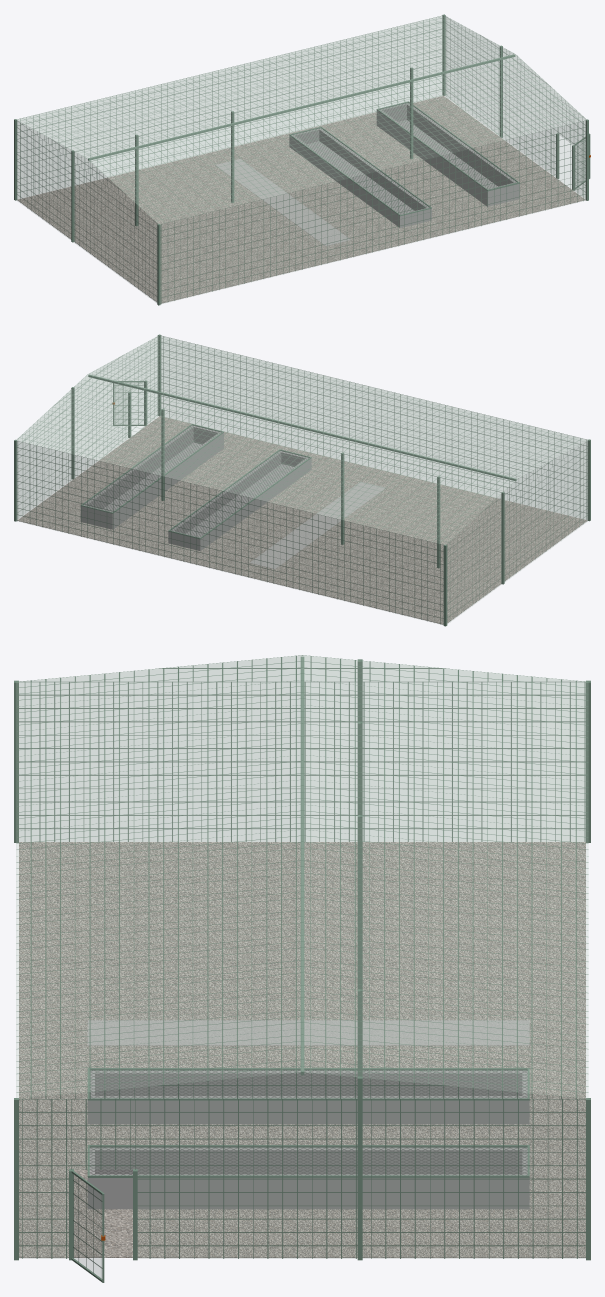
Rendered from poi10_vivero3_preview.glb.
3 renders of one model, top to bottom at view 1: azimuth 30°, elevation 25°; view 2: azimuth 150°, elevation 25°; view 3: azimuth 270°, elevation 25°, orthographic. The views are drawn at different scales.
Visible parts, largest first — view 1: envolvente_malla_sombra, cubierta_dos_aguas, piso_grava, cama_C3_concreto_prof_0.73, cama_C2_concreto_prof_0.55, cama_C1_indicativa_sin_profundidad, cama_C2_tapa_malla, cama_C3_tapa_malla, cumbrera_viga; view 2: envolvente_malla_sombra, cubierta_dos_aguas, piso_grava, cama_C3_concreto_prof_0.73, cama_C2_concreto_prof_0.55, cama_C1_indicativa_sin_profundidad, cama_C2_tapa_malla, cama_C3_tapa_malla, cumbrera_viga, puerta_P1, eje_V4; view 3: cubierta_dos_aguas, piso_grava, envolvente_malla_sombra, cama_C3_concreto_prof_0.73, cama_C2_concreto_prof_0.55, cama_C1_indicativa_sin_profundidad, cama_C2_tapa_malla, cama_C3_tapa_malla, puerta_P1, cumbrera_viga, eje_Y7_4, eje_Y7_2 (+4 smaller).
Part boxes in pixels (bbox=[...]): envolvente_malla_sombra: bbox=[16, 15, 586, 304]; cubierta_dos_aguas: bbox=[16, 15, 586, 224]; piso_grava: bbox=[17, 95, 585, 303]; cama_C3_concreto_prof_0.73: bbox=[376, 103, 519, 206]; cama_C2_concreto_prof_0.55: bbox=[289, 128, 431, 227]; cama_C1_indicativa_sin_profundidad: bbox=[215, 159, 350, 245]; cama_C2_tapa_malla: bbox=[289, 126, 431, 216]; cama_C3_tapa_malla: bbox=[376, 101, 519, 190]; cumbrera_viga: bbox=[88, 54, 515, 160]; envolvente_malla_sombra: bbox=[16, 335, 588, 624]; cubierta_dos_aguas: bbox=[16, 335, 588, 544]; piso_grava: bbox=[17, 416, 587, 624]; cama_C3_concreto_prof_0.73: bbox=[80, 425, 223, 529]; cama_C2_concreto_prof_0.55: bbox=[168, 451, 311, 550]; cama_C1_indicativa_sin_profundidad: bbox=[250, 481, 385, 568]; cama_C2_tapa_malla: bbox=[168, 449, 311, 538]; cama_C3_tapa_malla: bbox=[80, 424, 223, 513]; cumbrera_viga: bbox=[88, 374, 516, 481]; puerta_P1: bbox=[112, 381, 143, 425]; eje_V4: bbox=[443, 544, 447, 626]; cubierta_dos_aguas: bbox=[16, 655, 588, 1098]; piso_grava: bbox=[19, 842, 585, 1257]; envolvente_malla_sombra: bbox=[19, 655, 585, 1258]; cama_C3_concreto_prof_0.73: bbox=[87, 1147, 529, 1209]; cama_C2_concreto_prof_0.55: bbox=[87, 1070, 529, 1124]; cama_C1_indicativa_sin_profundidad: bbox=[87, 1020, 529, 1045]; cama_C2_tapa_malla: bbox=[87, 1068, 529, 1100]; cama_C3_tapa_malla: bbox=[87, 1145, 529, 1177]; puerta_P1: bbox=[71, 1170, 105, 1282]; cumbrera_viga: bbox=[300, 656, 304, 1075]; eje_Y7_4: bbox=[357, 1076, 362, 1260]; eje_Y7_2: bbox=[357, 815, 362, 989].
Size of the model in its own units: 21.32 by 4.2 by 11.75.
8 materials, 3 textured.
